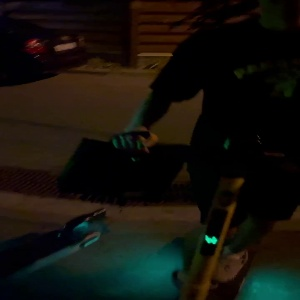human on a scooter: (53, 1, 300, 299)
